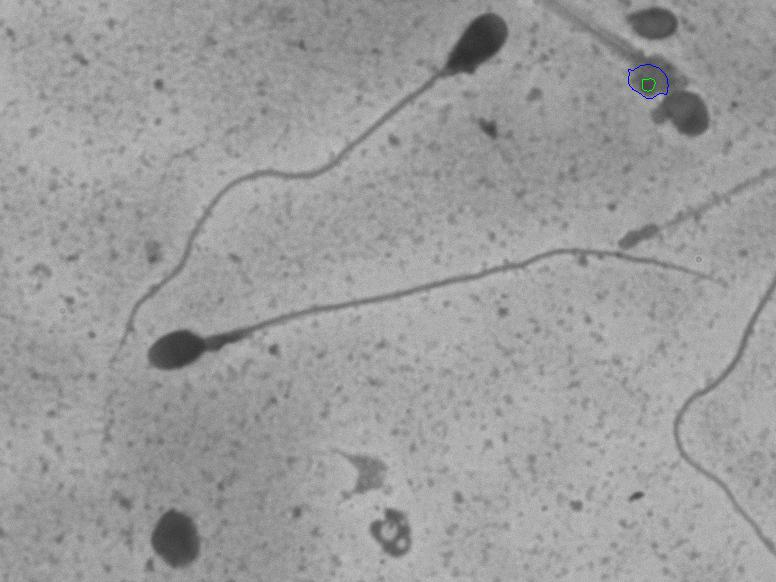Abnormal: (84, 6, 533, 378)
Normal: (141, 231, 739, 397)
